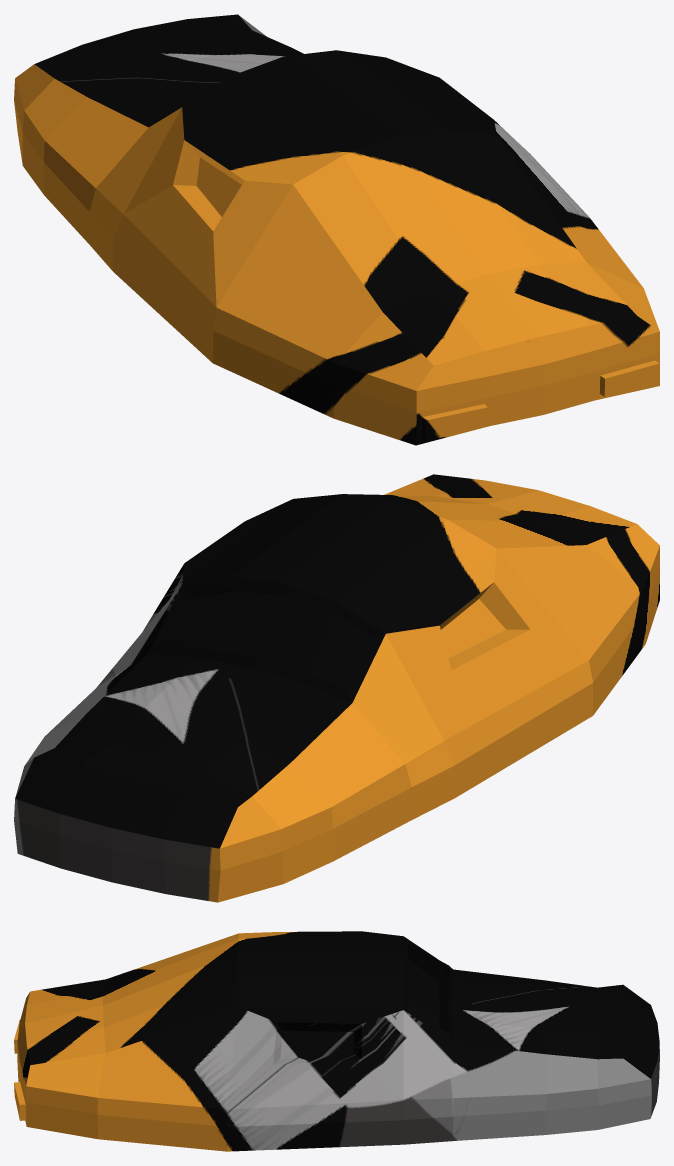
The model's file is NormalCar_1.fbx.
3 renders of one model, top to bottom at view 1: azimuth 30°, elevation 25°; view 2: azimuth 150°, elevation 25°; view 3: azimuth 270°, elevation 25°, orthographic. The views are drawn at different scales.
Parts seen in each view (by area): view 1: Taxi3; view 2: Taxi3; view 3: Taxi3.
Part boxes in pixels (x1,y1,x2,y2): Taxi3: [14, 14, 659, 445]; Taxi3: [14, 474, 659, 902]; Taxi3: [14, 931, 659, 1151].
Bounding box in the file's own units: 4.22 × 2.01 × 8.36.
